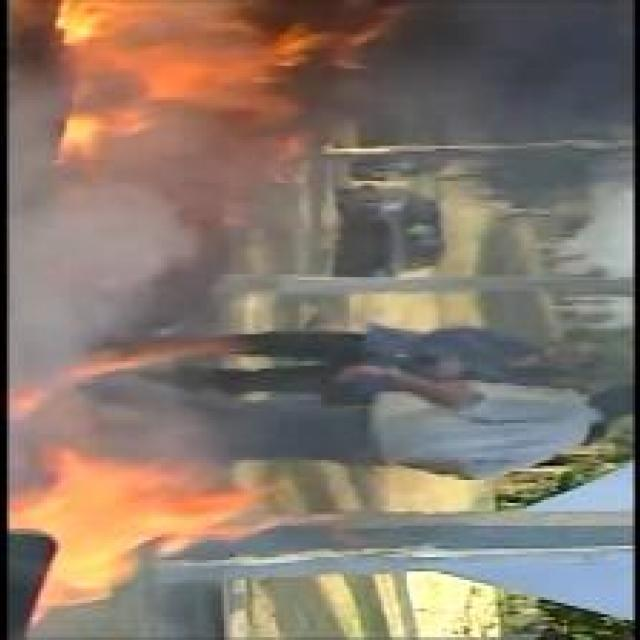Fire: (51, 0, 398, 168), (10, 448, 290, 628)
